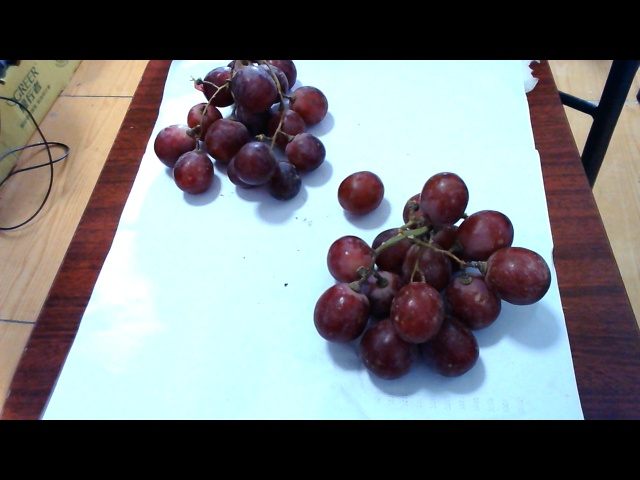grape: (320, 173, 543, 390), (158, 65, 336, 212)
